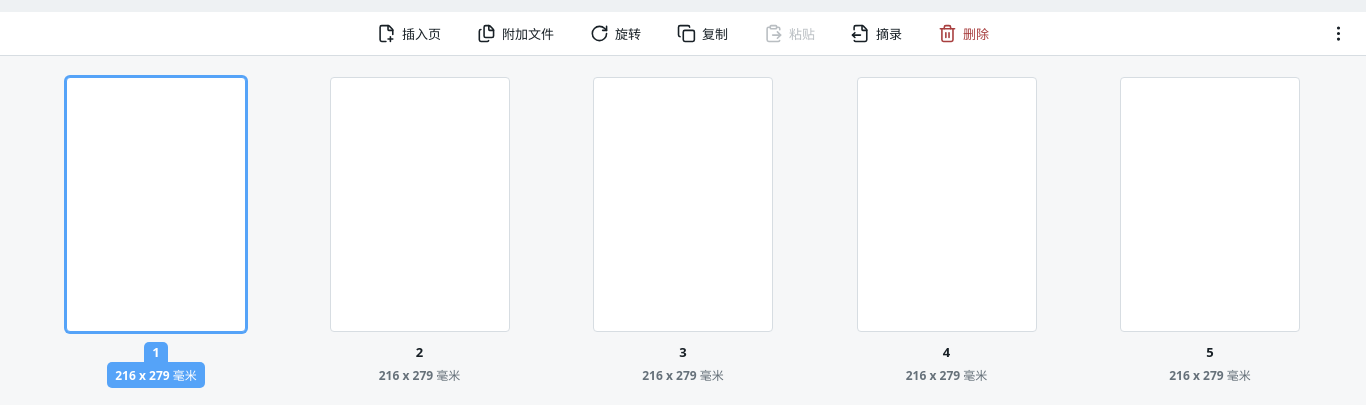
Test: PageOrganizerWorkspace 页面剪贴板（ISS-NEW-M M3） › 点击复制后粘贴按钮启用
The width and height of the screenshot is (1366, 405).
expect the button "粘贴" is disabled: met, box [760, 14, 819, 54]
// 点击复制 → 剪贴板写入 → 粘贴启用
Step 1. Click the button "复制" → (702, 34), box [673, 14, 732, 54]
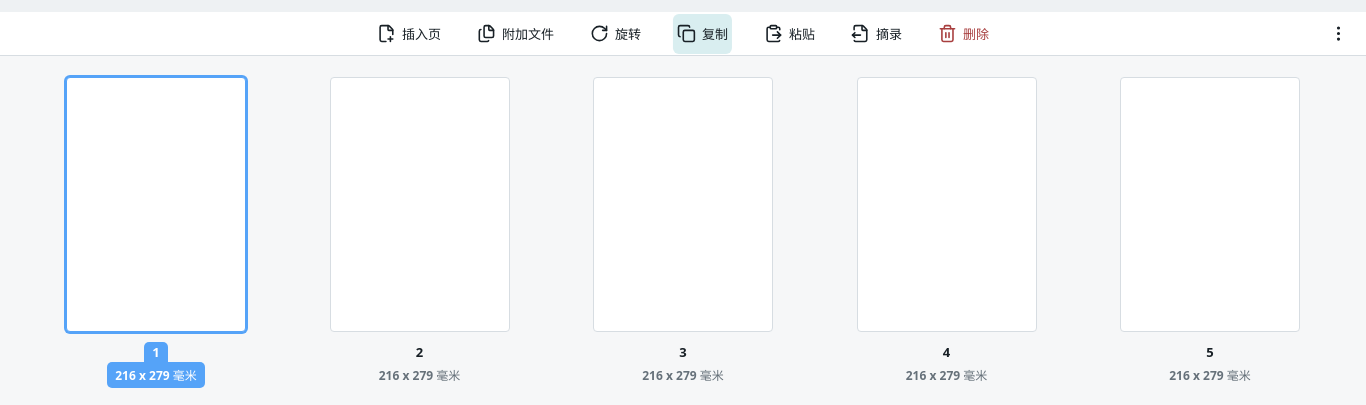
expect the button "粘贴" is enabled: met, box [760, 14, 819, 54]
